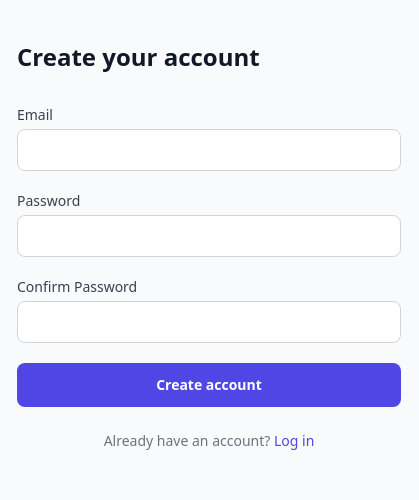
Test: RegisterPage › shows an error message when register throws
Type "user@test.com" into the field labelled "Email" at [209, 150], box [17,129,401,171]
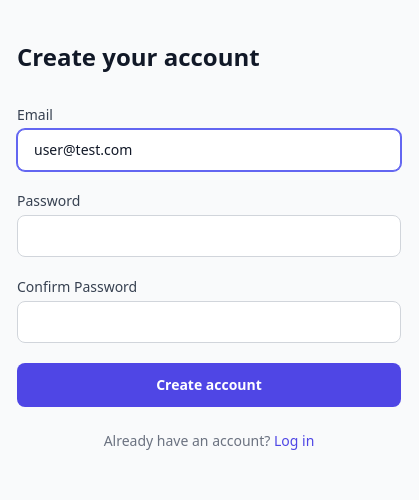
Type "Password1" into the password field labelled "Password" at [209, 236], box [17,215,401,257]
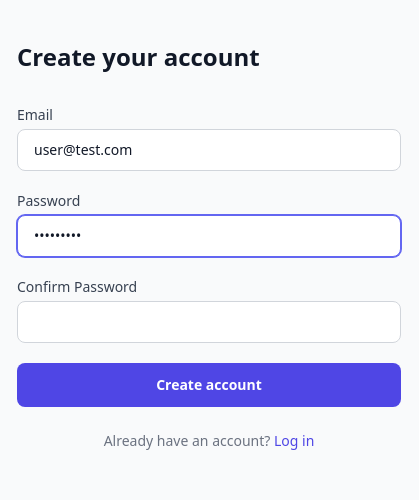
Type "Password1" into the password field labelled "Confirm Password" at [209, 322], box [17,301,401,343]
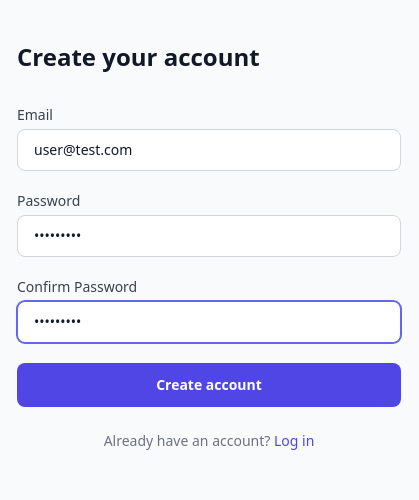
Click the button "Create account" at [209, 385], box [17,363,401,407]
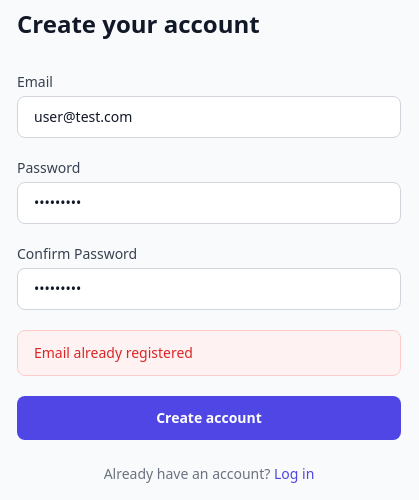
Result: the text "Email already registered" is shown at [17,330,401,376]
